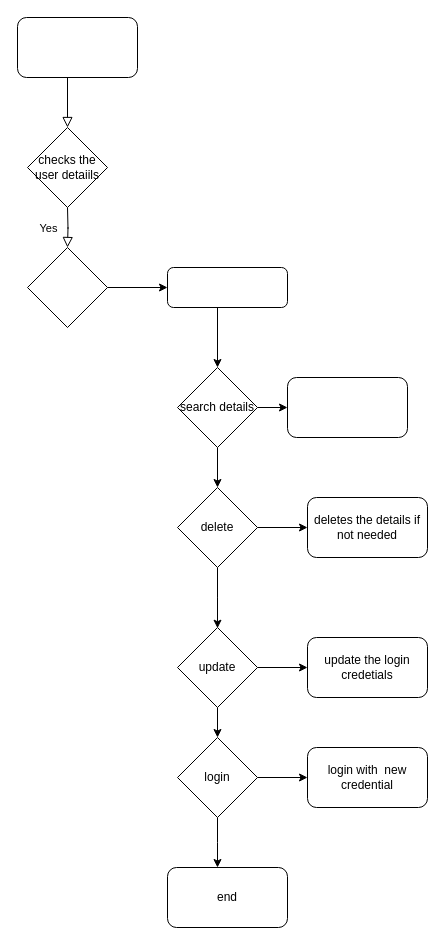
Image size: 445x945. Some labels were removed from this diagram. The shapes that lost their labels are listed below. From the top down, each one's centre as x and y in pixels, then its label:
point (77, 47): strart
point (67, 287): menu page
point (227, 287): collects the details
point (347, 407): views the details
